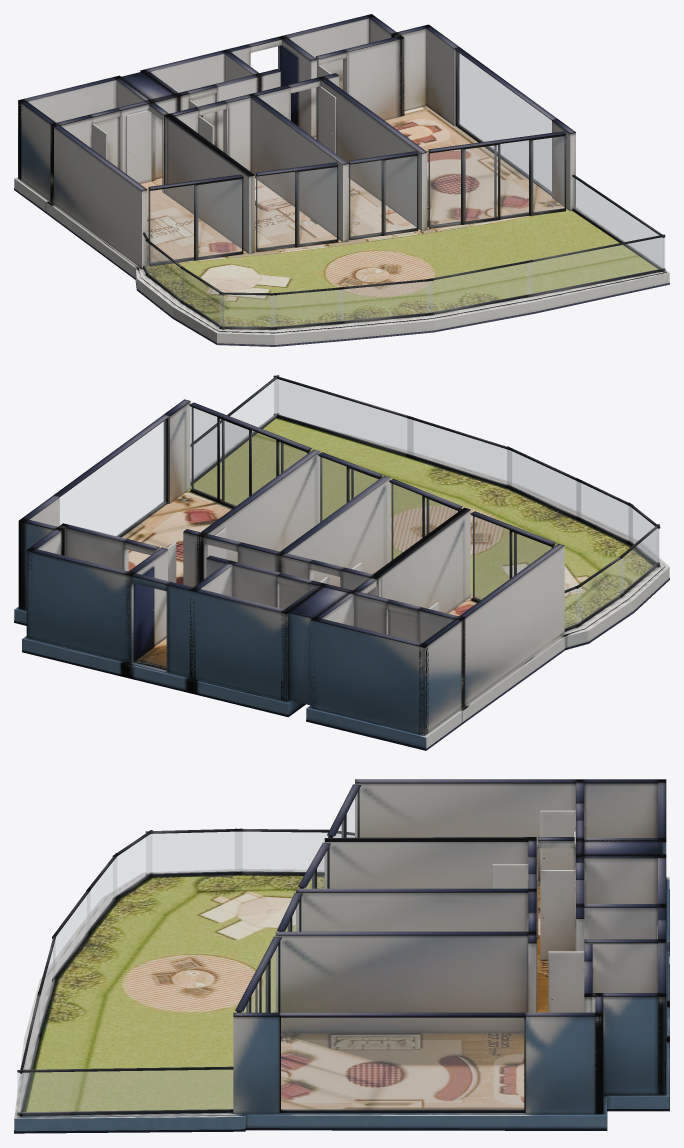
3 views of the same model, one above another, from view 1: azimuth 30°, elevation 25°; view 2: azimuth 150°, elevation 25°; view 3: azimuth 270°, elevation 25° (orthographic). The views are drawn at different scales.
Parts seen in each view (by area): view 1: plan, glass3_m, glass0_m, glass4_m, glass1_m, glass2_m, railg1_m, railg2_m, railg3_m, railg0_m, railg4_m, railg5_m (+2 smaller); view 2: plan, glass4_m, glass3_m, railg1_m, railg2_m, glass0_m, railg3_m, railg0_m, glass1_m, railg4_m, glass2_m, railg7_m (+3 smaller); view 3: plan, glass4_m, railg0_m, railg6_m, railg7_m, railg5_m, railg3_m, railg4_m, glass3_m, railg1_m, railg2_m.
Part boxes in pixels (<box>): plan: <box>14,14,669,346</box>; glass3_m: <box>429,136,564,226</box>; glass0_m: <box>149,179,241,263</box>; glass4_m: <box>457,52,551,192</box>; glass1_m: <box>256,167,336,249</box>; glass2_m: <box>349,156,416,237</box>; railg1_m: <box>527,237,664,294</box>; railg2_m: <box>427,262,532,312</box>; railg3_m: <box>338,281,432,321</box>; railg0_m: <box>573,177,664,269</box>; railg4_m: <box>270,289,343,327</box>; railg5_m: <box>219,295,276,326</box>; plan: <box>14,375,669,750</box>; glass4_m: <box>60,420,165,536</box>; glass3_m: <box>191,407,306,505</box>; railg1_m: <box>274,379,413,454</box>; railg2_m: <box>407,419,511,486</box>; glass0_m: <box>472,516,551,600</box>; railg3_m: <box>507,450,580,517</box>; railg0_m: <box>194,379,277,479</box>; glass1_m: <box>391,483,457,560</box>; railg4_m: <box>576,481,632,542</box>; glass2_m: <box>320,457,377,521</box>; railg7_m: <box>576,557,623,624</box>; plan: <box>14,779,669,1133</box>; glass4_m: <box>281,1018,523,1109</box>; railg0_m: <box>17,1070,232,1112</box>; railg6_m: <box>146,832,242,873</box>; railg7_m: <box>235,832,327,872</box>; railg5_m: <box>114,834,151,897</box>; railg3_m: <box>53,892,89,978</box>; railg4_m: <box>87,857,116,932</box>; glass3_m: <box>242,946,277,1012</box>; railg1_m: <box>21,1000,39,1112</box>; railg2_m: <box>39,941,55,1034</box>.
Size of the model in its own units: 12.42 by 2.62 by 13.75.
2 materials, 1 textured.
